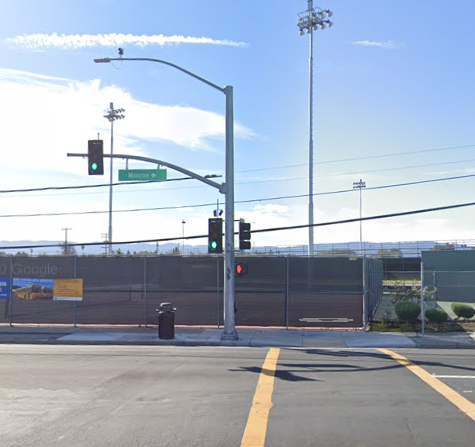green_light: (88, 141, 102, 173), (208, 219, 222, 250)
